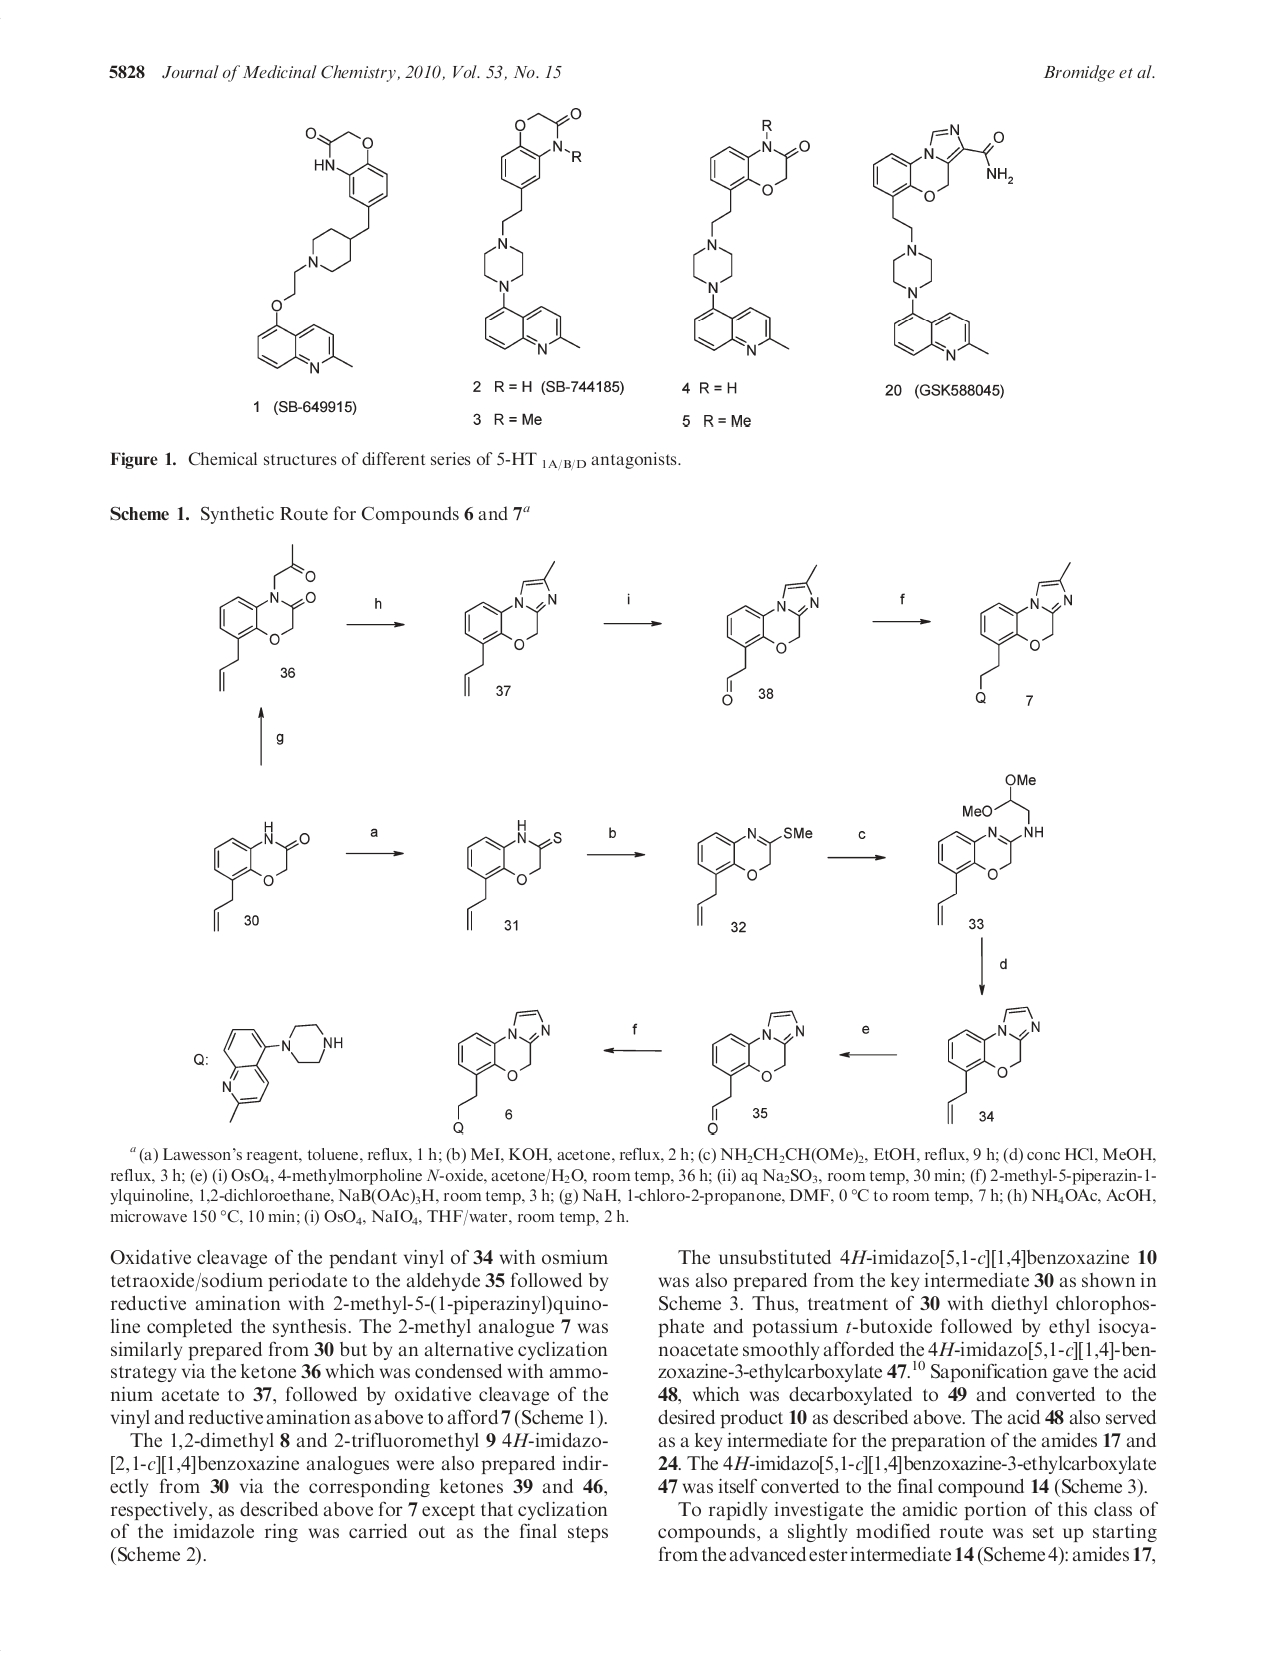exist_molecular: (871, 122, 1015, 362), (255, 126, 390, 374), (692, 112, 813, 360), (481, 101, 590, 356), (932, 771, 1047, 930), (214, 543, 322, 694), (971, 556, 1076, 706), (718, 561, 824, 707), (459, 555, 563, 698), (218, 1021, 347, 1126), (693, 821, 813, 934), (449, 1005, 551, 1134), (703, 1008, 805, 1134), (942, 1004, 1044, 1126), (210, 819, 313, 934), (464, 817, 564, 932)
